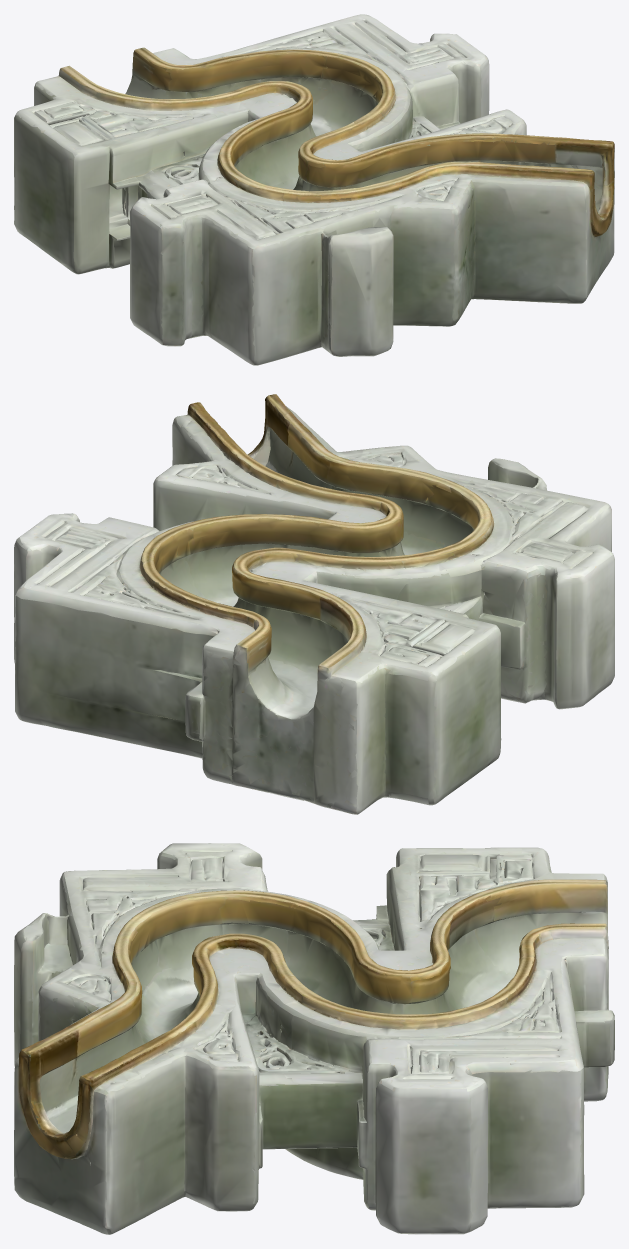
The model's file is jade-ramp.glb.
3 views of the same model, one above another, from view 1: azimuth 30°, elevation 25°; view 2: azimuth 150°, elevation 25°; view 3: azimuth 270°, elevation 25° (orthographic). The views are drawn at different scales.
Visible parts, largest first — view 1: geometry_0; view 2: geometry_0; view 3: geometry_0.
Boxes of the visible parts, bbox=[...] form: geometry_0: bbox=[14, 14, 614, 365]; geometry_0: bbox=[14, 394, 614, 814]; geometry_0: bbox=[14, 843, 614, 1234].
Size of the model in its own units: 0.085 by 0.0248 by 0.0852.
1 material, 1 textured.
